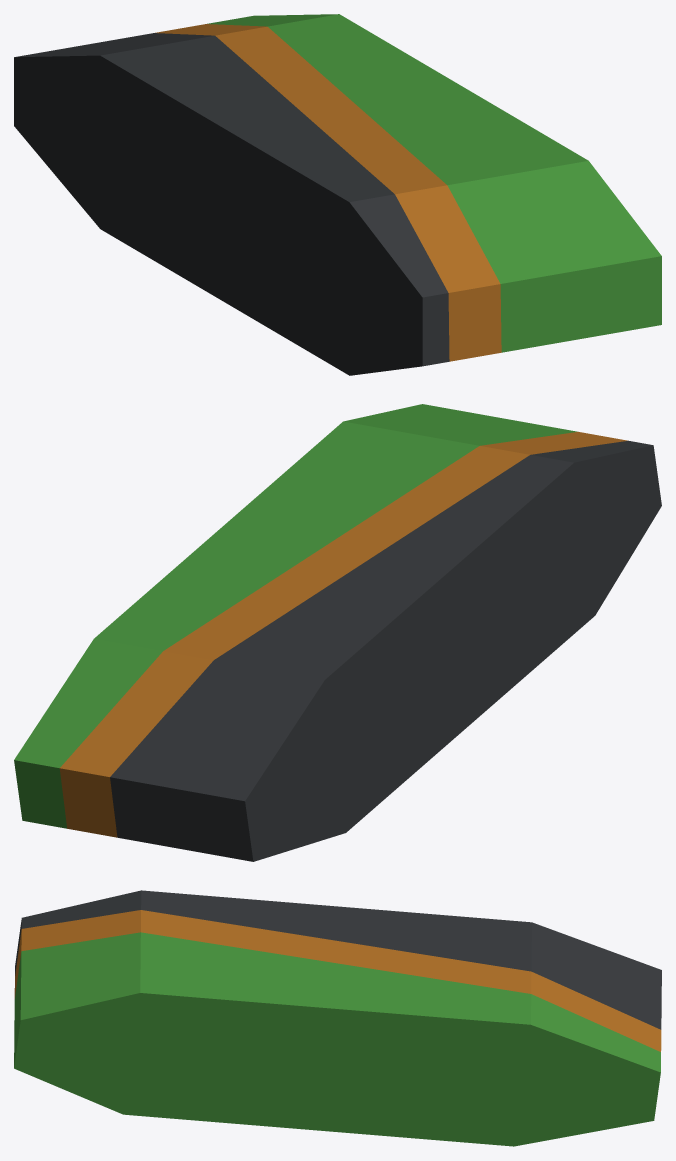
File: SM_Prop_Snack_09.fbx
3 renders of one model, top to bottom at view 1: azimuth 30°, elevation 25°; view 2: azimuth 150°, elevation 25°; view 3: azimuth 270°, elevation 25°, orthographic. The views are drawn at different scales.
Parts seen in each view (by area): view 1: SM_Prop_Snack_09; view 2: SM_Prop_Snack_09; view 3: SM_Prop_Snack_09.
Boxes of the visible parts, x1=… form: SM_Prop_Snack_09: x1=14, y1=14, x2=661, y2=375; SM_Prop_Snack_09: x1=14, y1=404, x2=661, y2=861; SM_Prop_Snack_09: x1=14, y1=890, x2=661, y2=1146.
Size of the model in its own units: 6.02 by 4.97 by 17.28.
